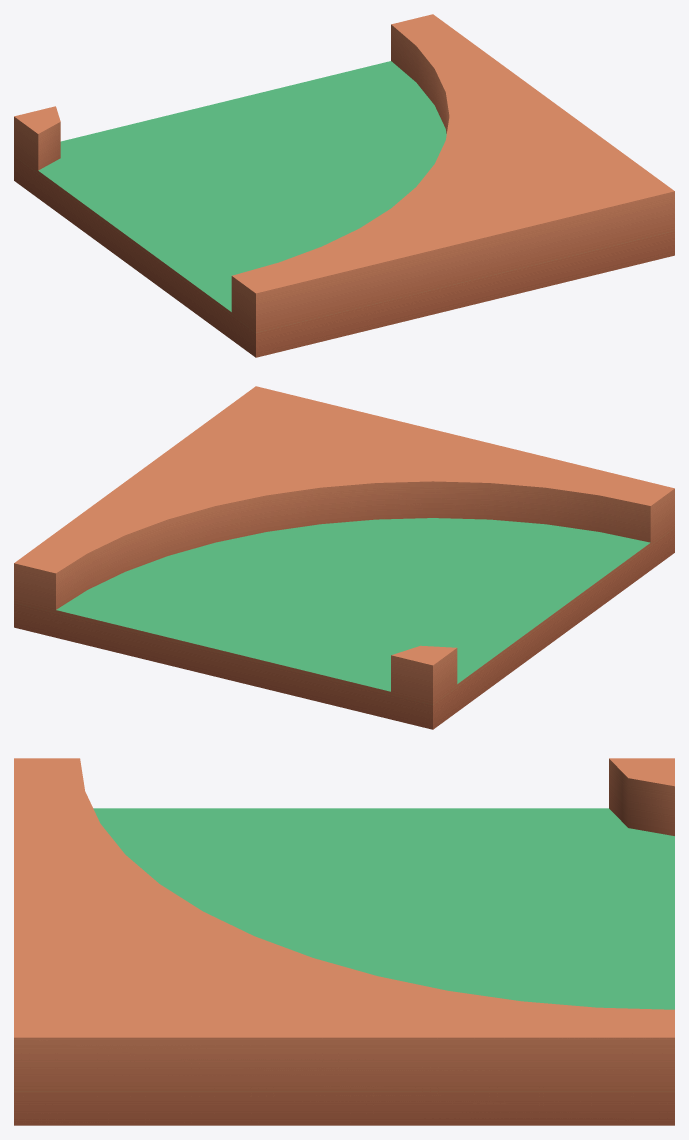
Rendered from round-corner-b.glb.
The picture shows the model from 3 angles, top to bottom: view 1: azimuth 30°, elevation 25°; view 2: azimuth 150°, elevation 25°; view 3: azimuth 270°, elevation 25°; orthographic projection. The views are drawn at different scales.
Visible parts, largest first — view 1: round-corner-b; view 2: round-corner-b; view 3: round-corner-b.
Boxes of the visible parts, x1,y1,x2,y2 form: round-corner-b: (14,14,674,357); round-corner-b: (14,386,674,729); round-corner-b: (14,758,674,1125).
Bounding box in the file's own units: 0.9999 × 0.1467 × 0.9999.
1 material, 1 textured.
